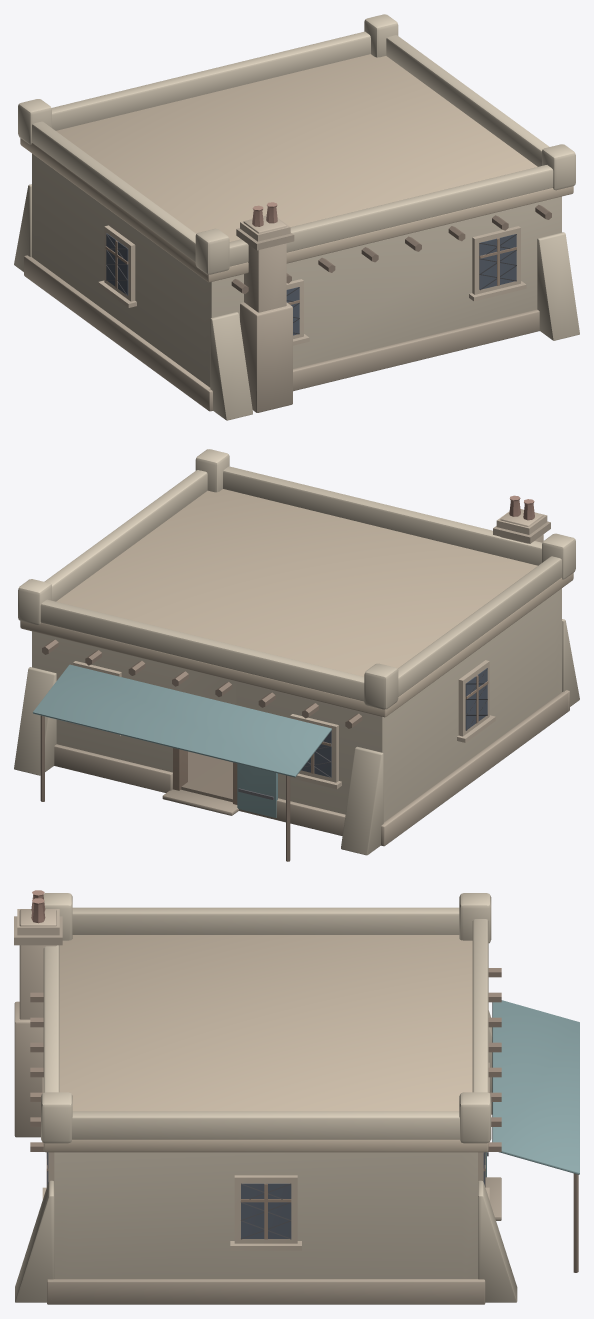
The model's file is open_house_sun.gltf.
The picture shows the model from 3 angles, top to bottom: view 1: azimuth 30°, elevation 25°; view 2: azimuth 150°, elevation 25°; view 3: azimuth 270°, elevation 25°; orthographic projection. The views are drawn at different scales.
Visible parts, largest first — view 1: Body; view 2: Body; view 3: Body.
Boxes of the visible parts, x1=… form: Body: x1=14, y1=14, x2=579, y2=420; Body: x1=14, y1=449, x2=579, y2=861; Body: x1=14, y1=890, x2=579, y2=1304.
Bounding box in the file's own units: 9.5 × 4.81 × 10.69.
